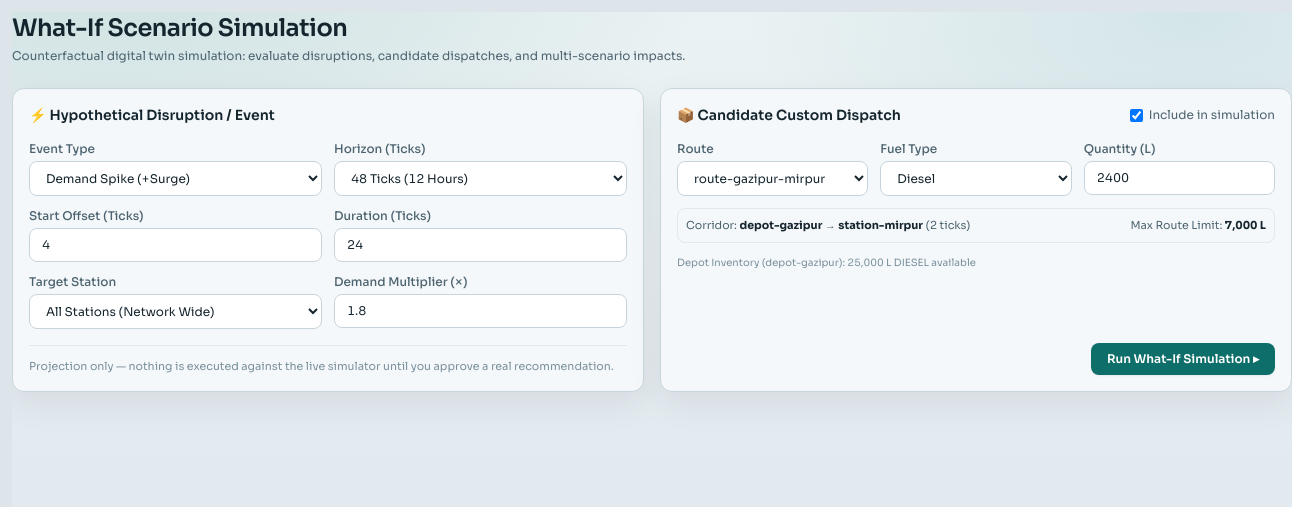
Test: What-If Scenario Simulation Page › displays prominent validation error banner on infeasible dispatch
What coordinates should you click on to do the following:
click the button "Run What-If Simulation ▸"
I would click on:
 (1183, 358)
Its box is [1091,342,1275,374].
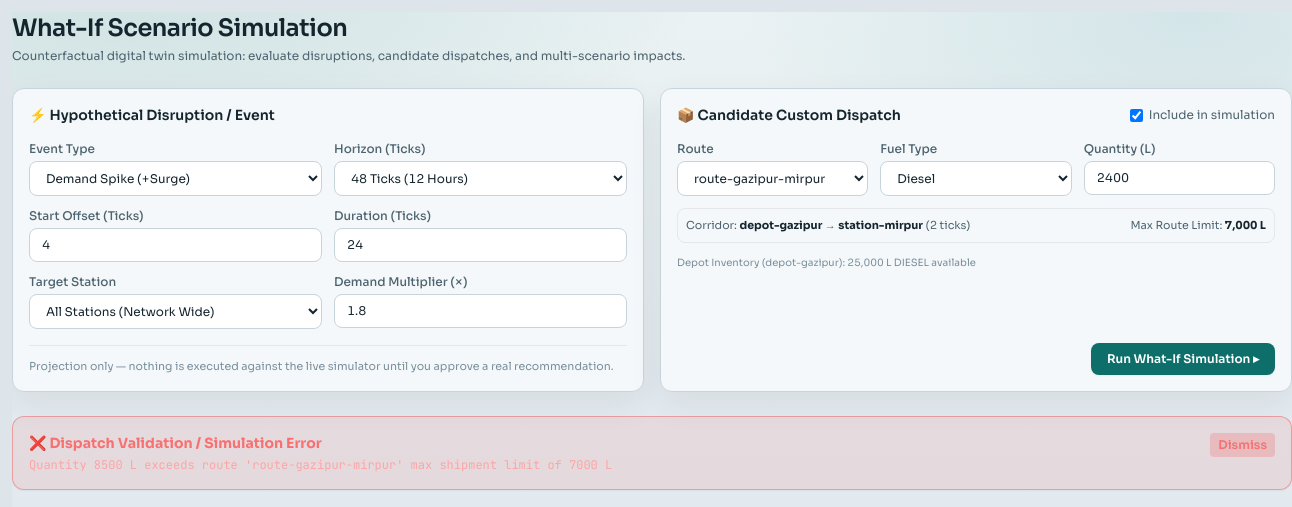
Expected: the text "❌ Dispatch Validation / Simulation Error" is shown, [29,434,322,452]
Expected: the text "exceeds route 'route-gazipur-mirpur' max shipment limit" is shown, [29,456,612,472]
